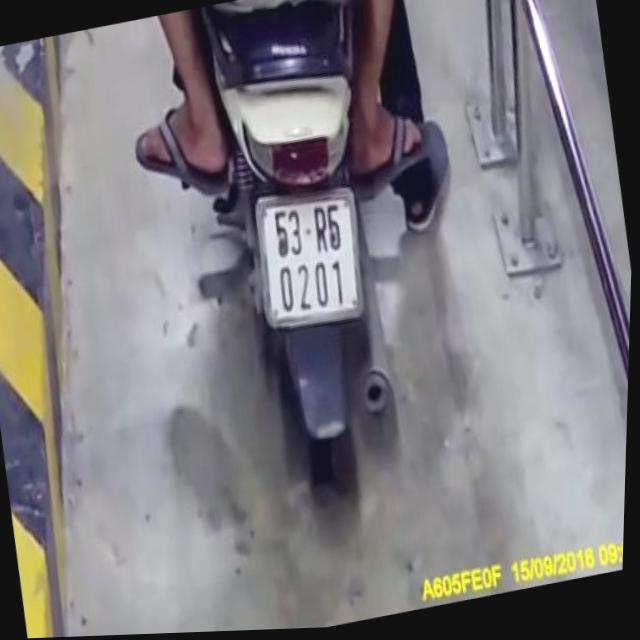motorcycle: (163, 0, 450, 512)
plate: (233, 169, 379, 343)
